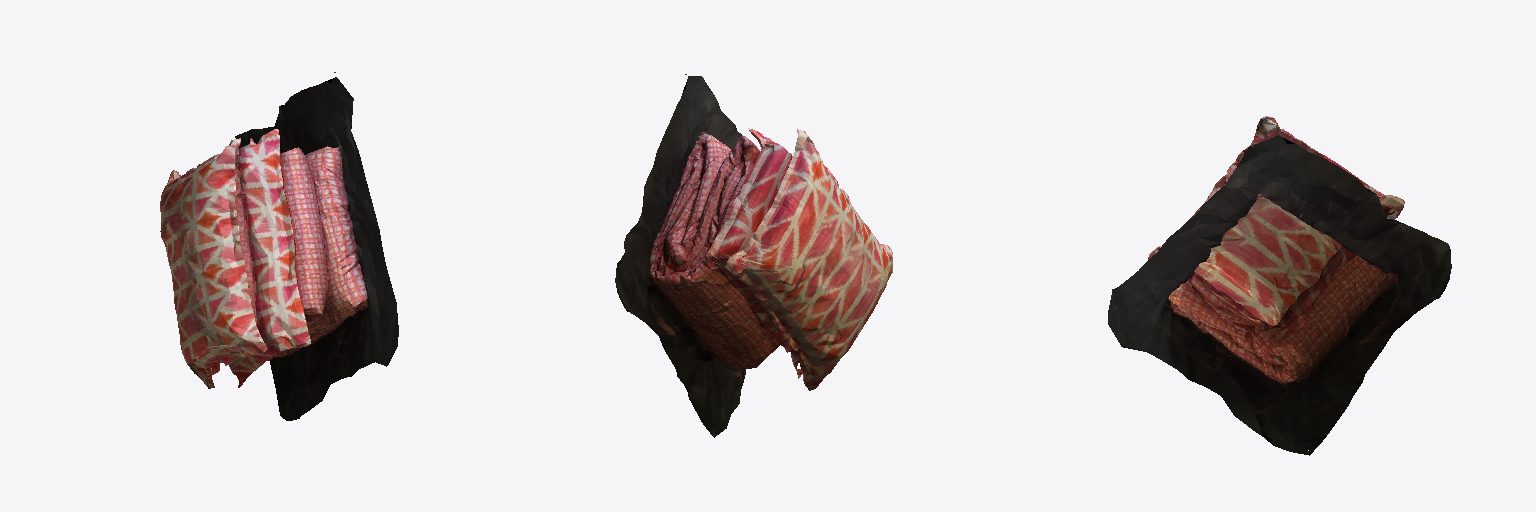
3 views of the same model, side by side, from view 1: azimuth 30°, elevation 25°; view 2: azimuth 150°, elevation 25°; view 3: azimuth 270°, elevation 25° (orthographic).
Bounding box in the file's own units: 19.42 × 40.36 × 34.78.
1 materials, 1 textured.